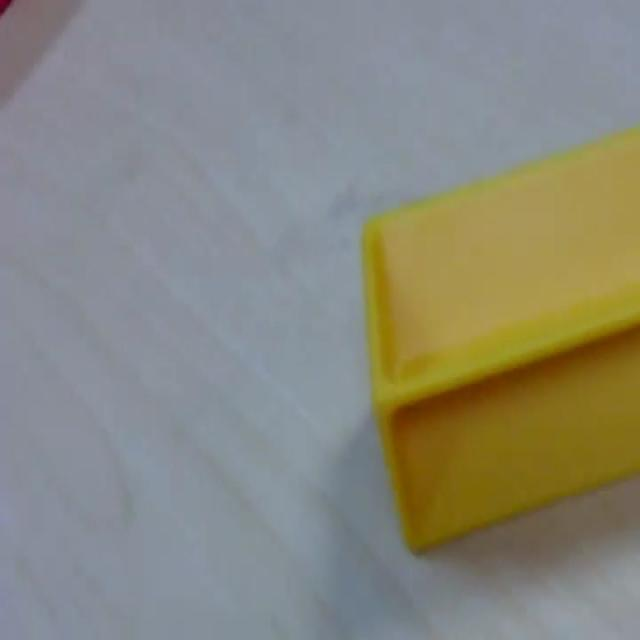yellow_block: (361, 124, 638, 555)
